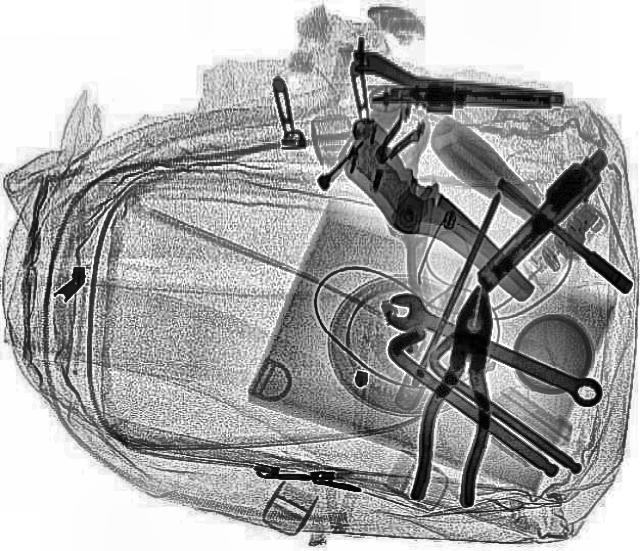Gun: (460, 141, 622, 295), (353, 50, 563, 114)
Pliers: (404, 281, 516, 507)
Wrench: (376, 287, 612, 413)
